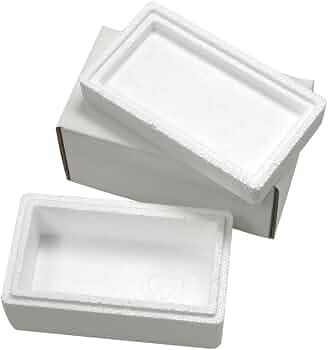Boxes: (1, 194, 232, 347)
